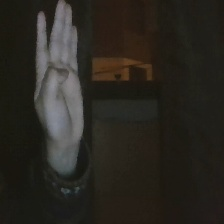B: (26, 1, 96, 145)
